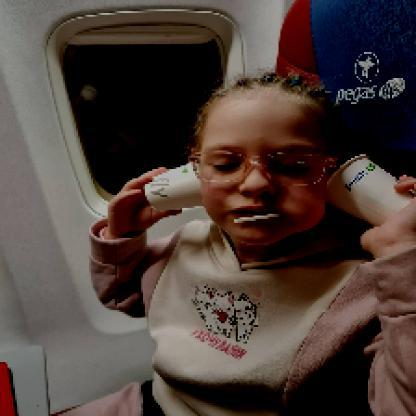child: (87, 72, 416, 416)
